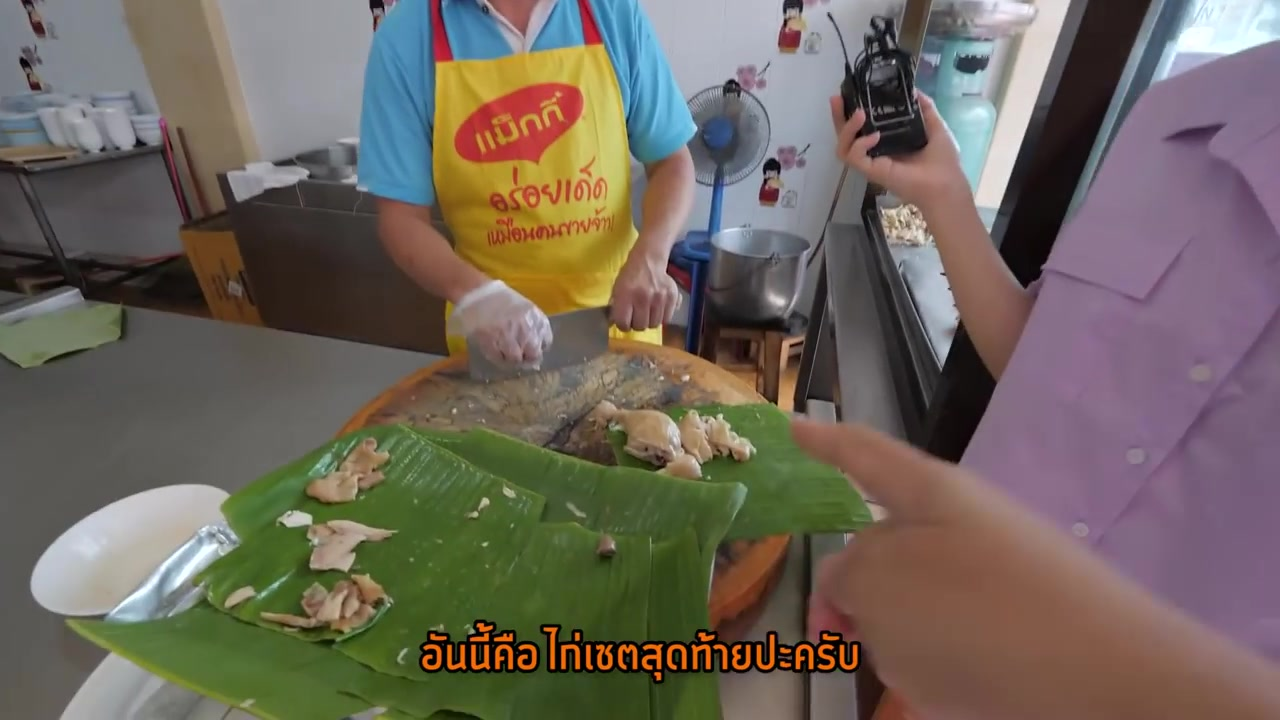text-label: (416, 615, 864, 687)
